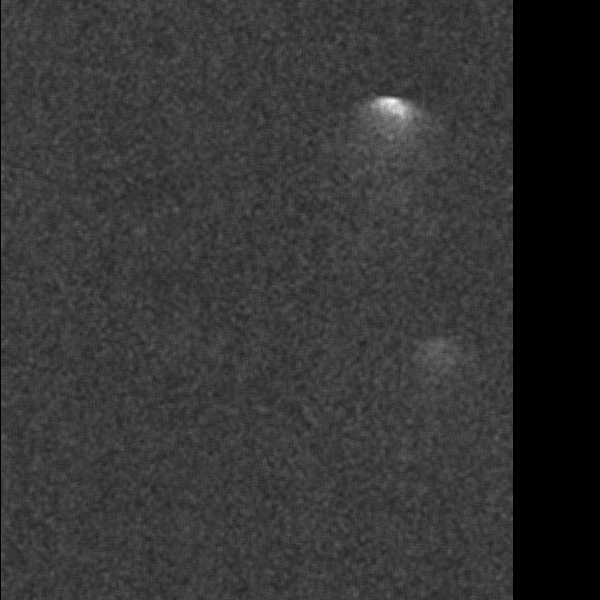spark: (37, 186, 73, 249), (330, 420, 364, 478)
